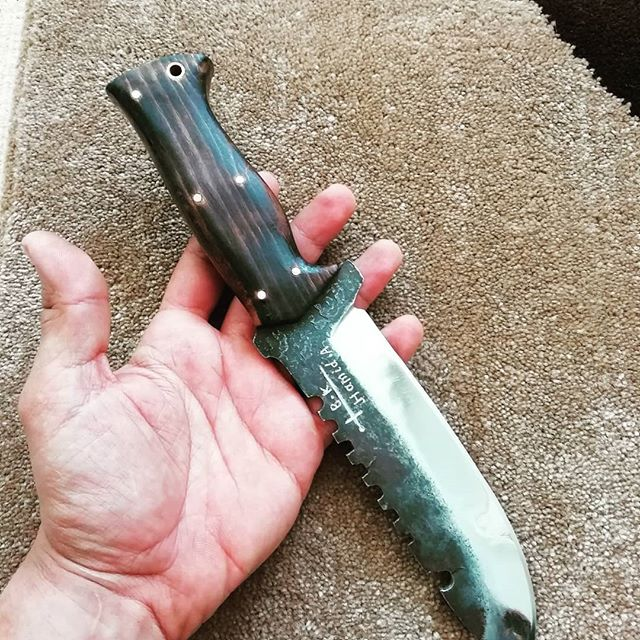knife: (106, 54, 537, 640)
